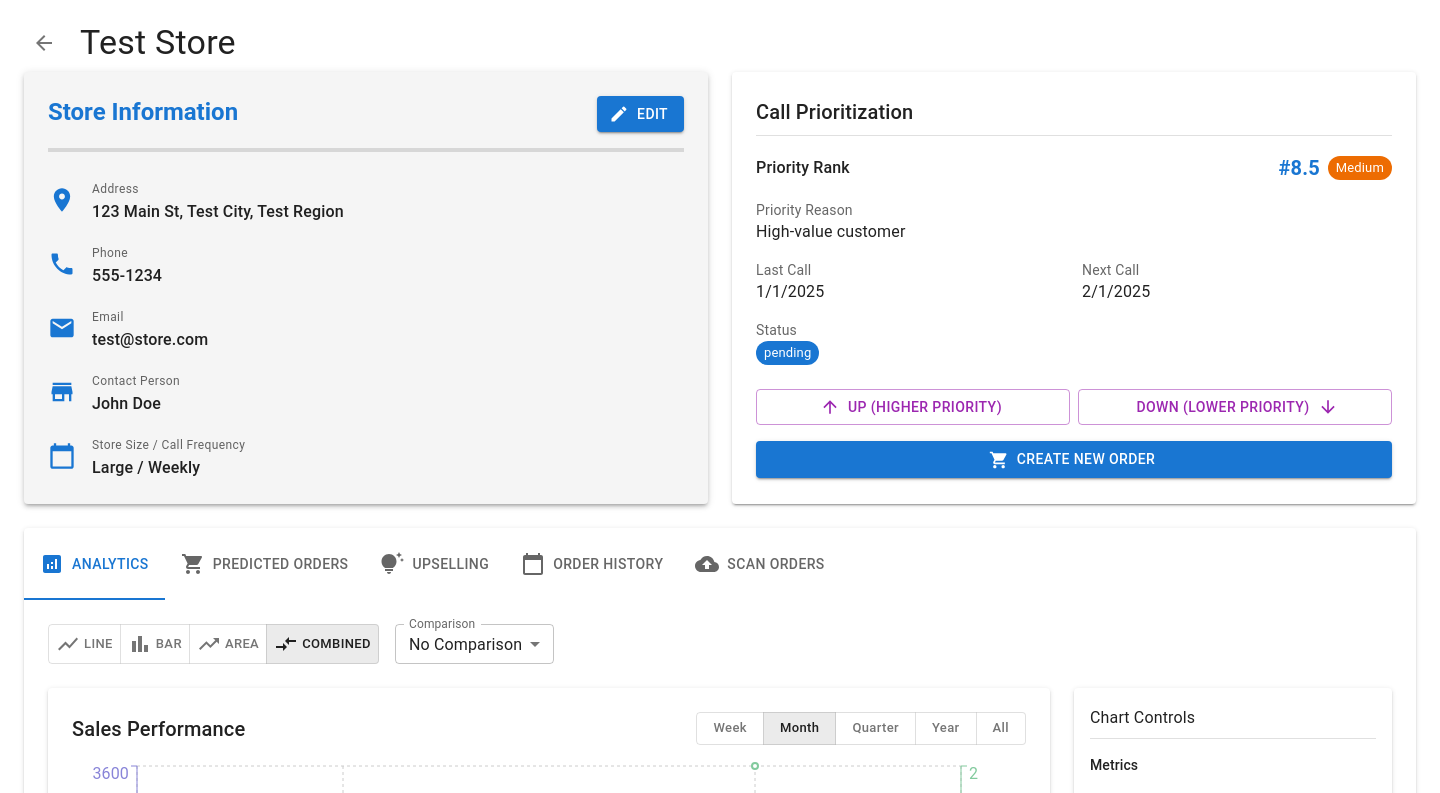
StoreDetailPage - Data Mapping and Display › Data Type Conversions › converts string totalAmount to number for display
The image size is (1440, 793).
Expected: the heading "Test Store" is shown, [80,22,236,64]
Click on Order History tab
Click the tab "Order History".
click(592, 564)  # box [505,528,679,600]
(page scrolled)
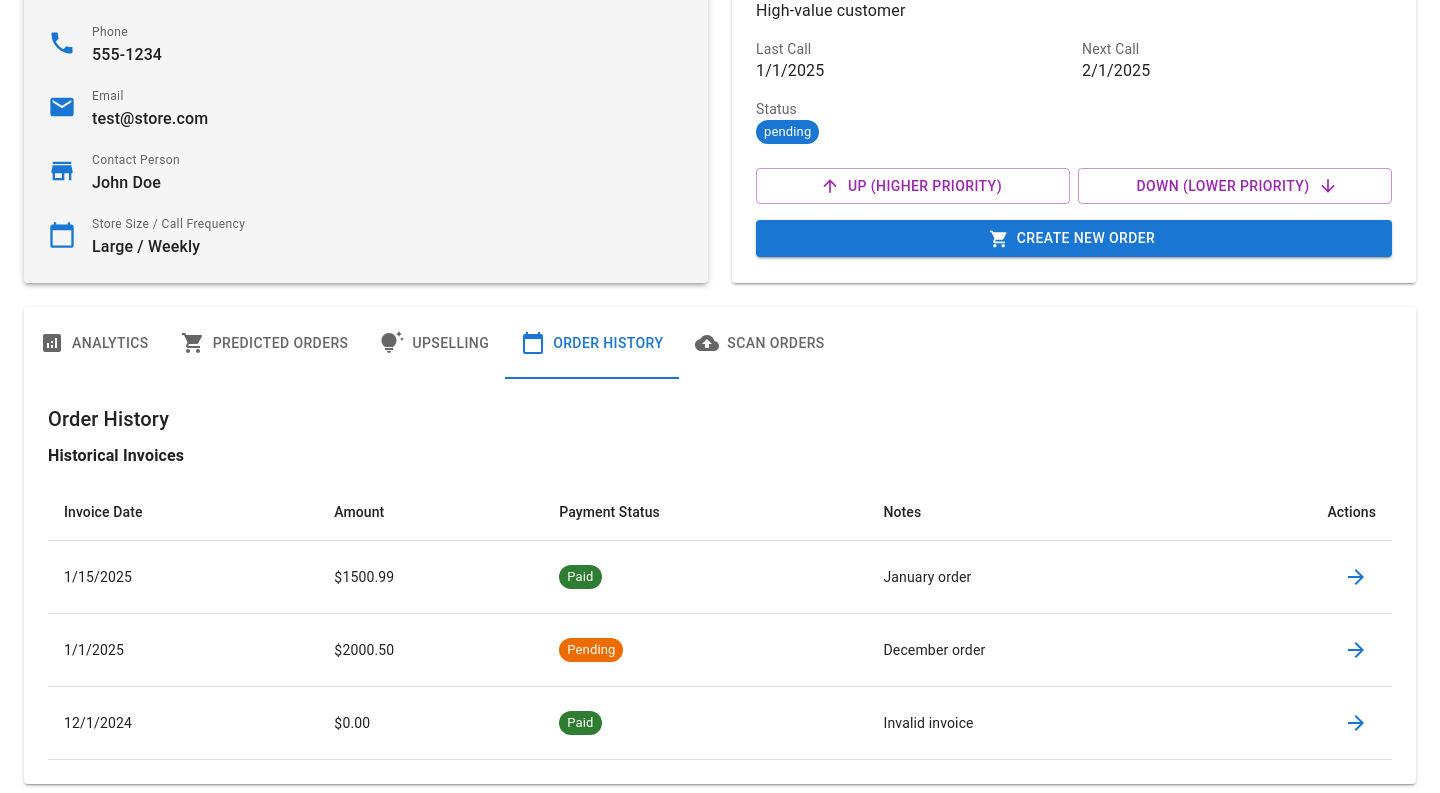
Now the text "$1500.99" is shown, box [318,541,543,614]
Now the text "$2000.50" is shown, box [318,614,543,687]
